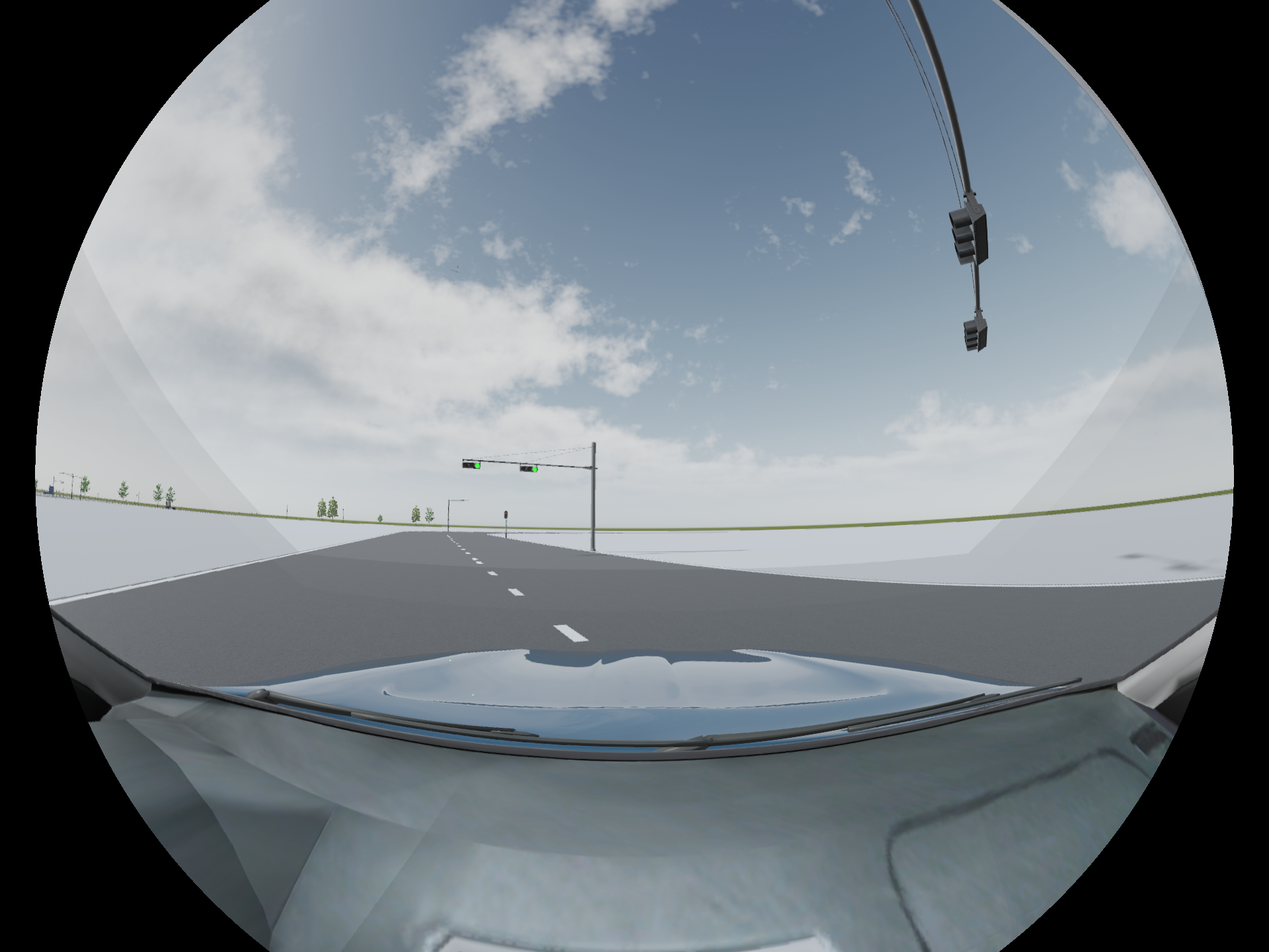Green Light: (462, 461, 482, 470)
